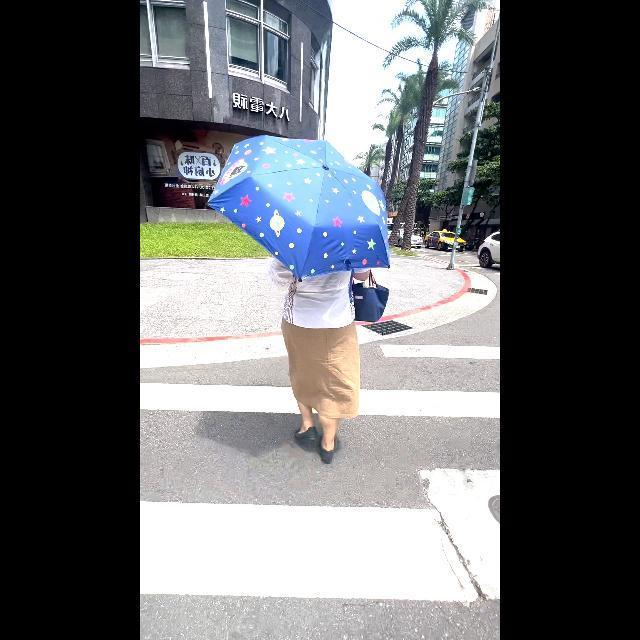sidewalk: (140, 307, 499, 640)
